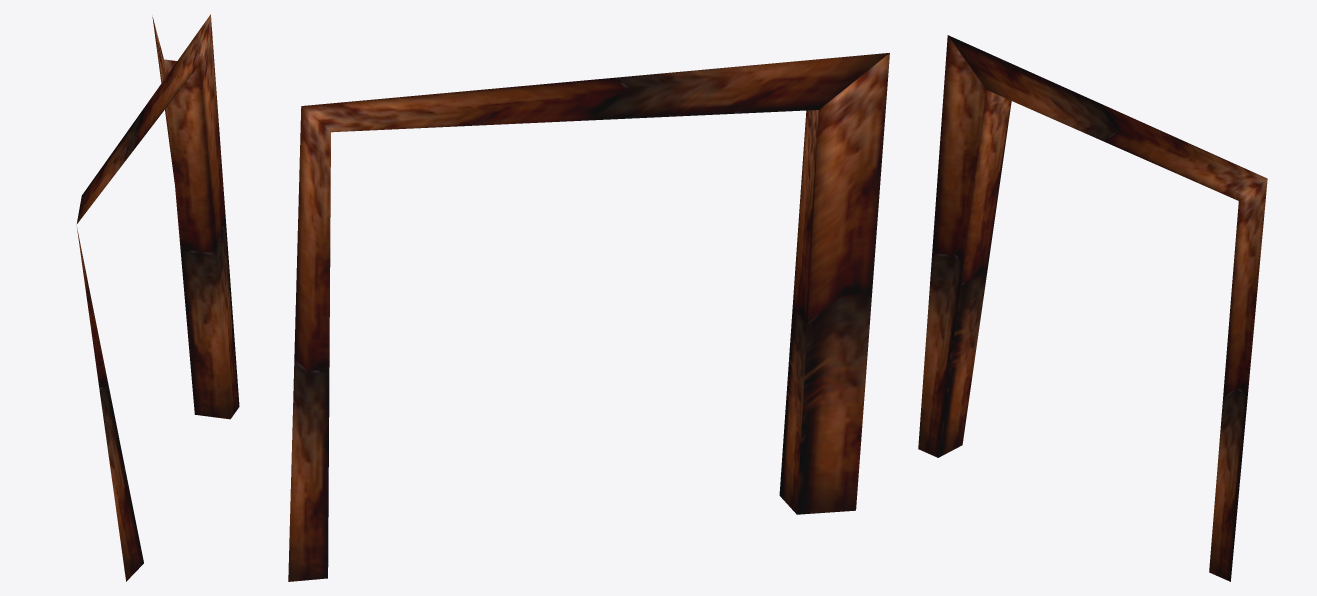
3 views of the same model, side by side, from view 1: azimuth 30°, elevation 25°; view 2: azimuth 150°, elevation 25°; view 3: azimuth 270°, elevation 25° (orthographic). The views are drawn at different scales.
Parts seen in each view (by area): view 1: Box01; view 2: Box01; view 3: Box01.
Boxes of the visible parts, x1=… form: Box01: x1=76, y1=14, x2=239, y2=581; Box01: x1=288, y1=53, x2=889, y2=581; Box01: x1=918, y1=35, x2=1267, y2=581.
Size of the model in its own units: 512 by 548 by 479.
1 material, 1 textured.
